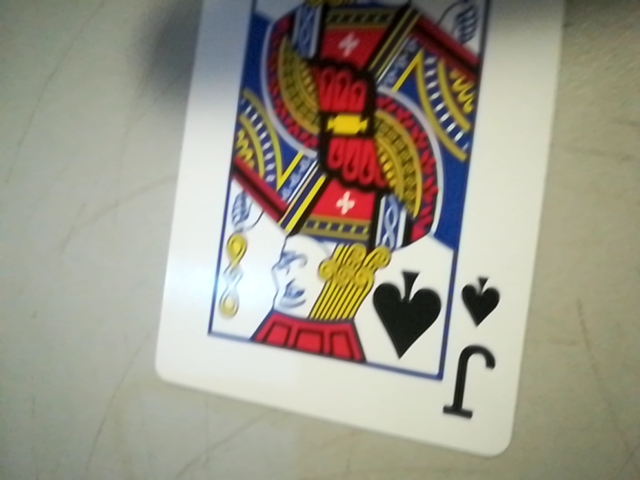ht j: (439, 265, 512, 439)
